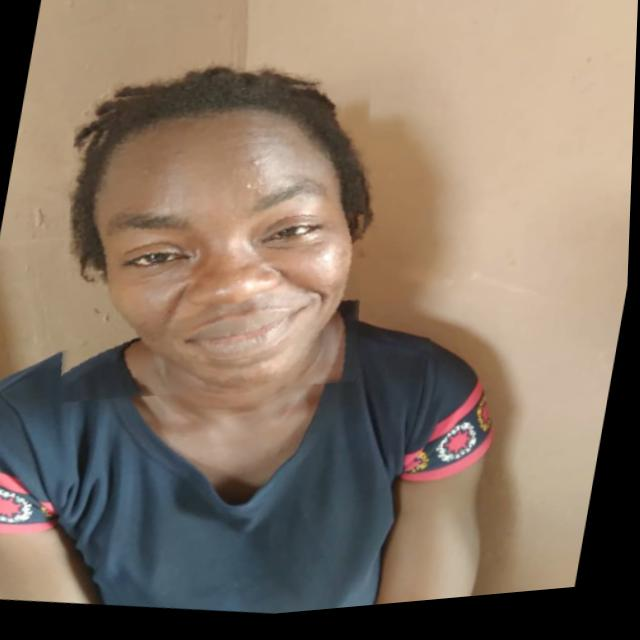happy: (36, 53, 400, 437)
